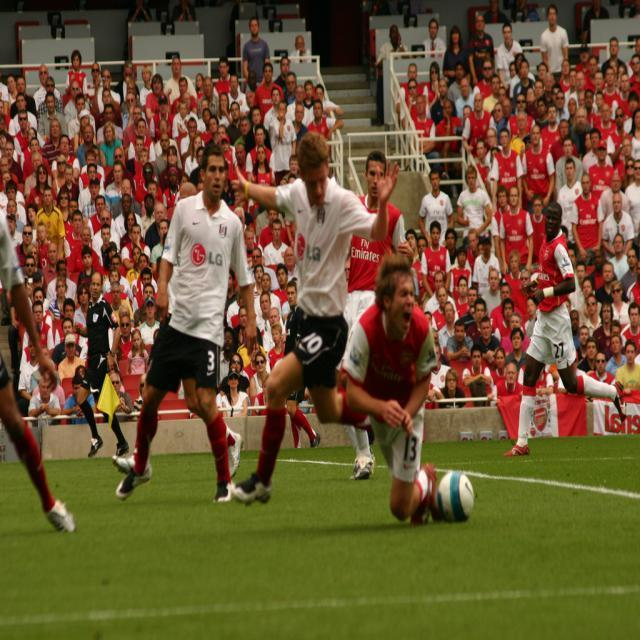football: (431, 469, 483, 527)
